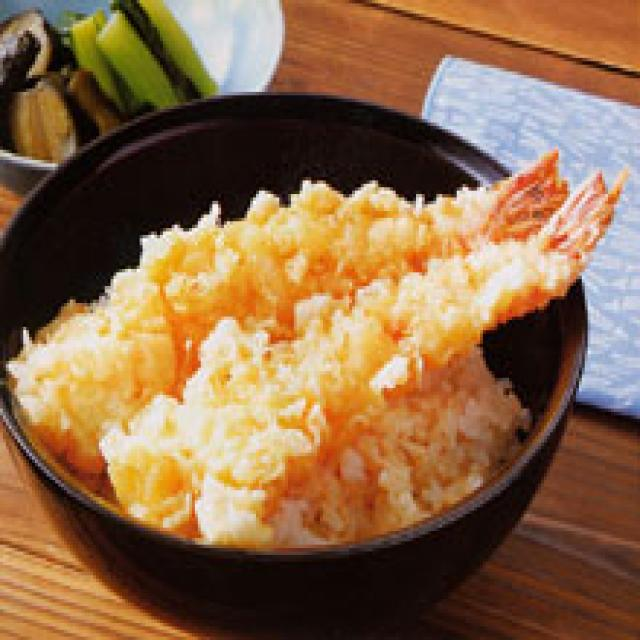熟制海鲜: (0, 85, 640, 640)
